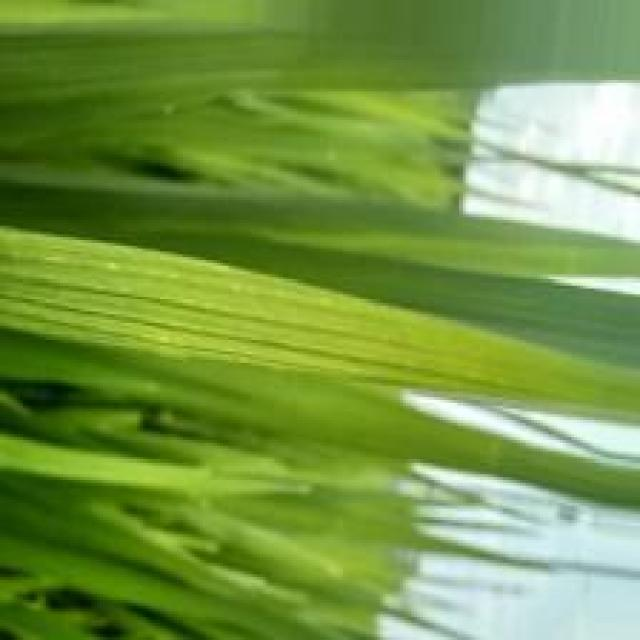HealthyLeaf: (0, 225, 639, 427), (0, 328, 629, 510), (3, 0, 637, 133)
